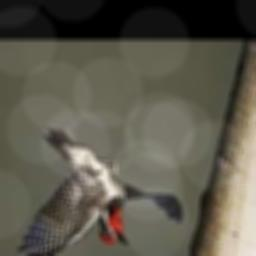Woodpecker: (17, 127, 182, 256)
